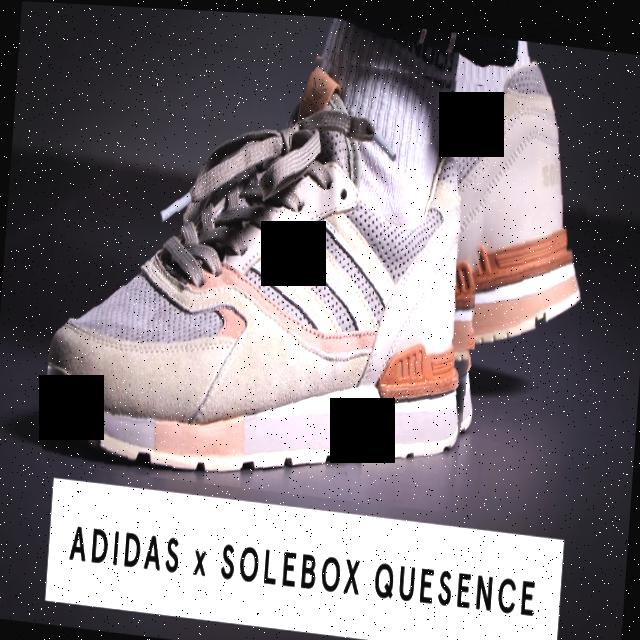shoe: (40, 15, 499, 511), (442, 28, 598, 357)
